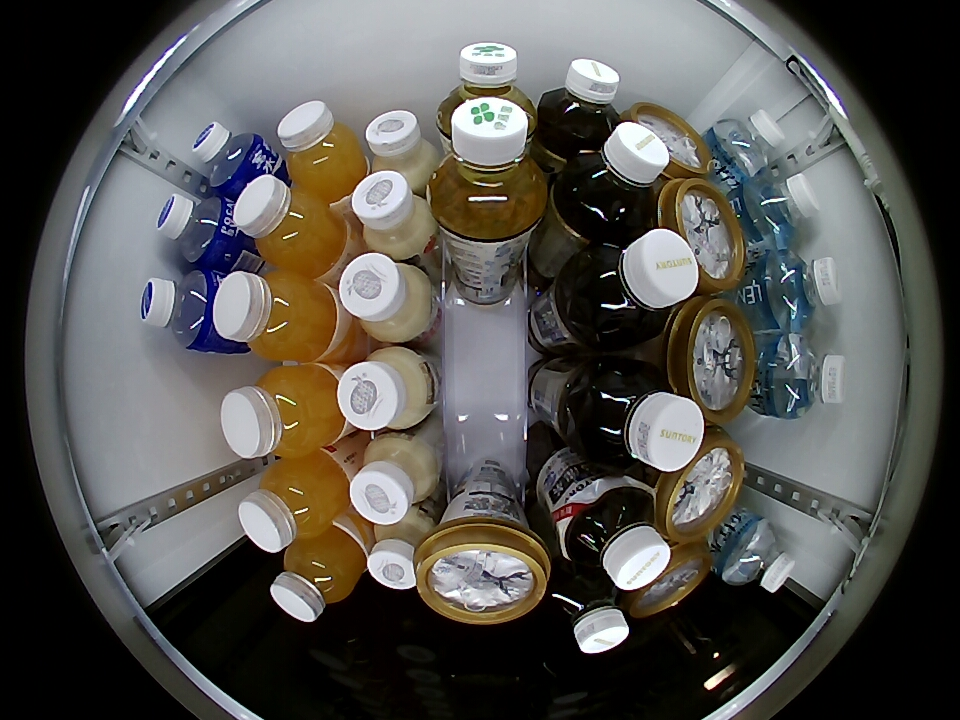baicha: (429, 99, 546, 241), (436, 42, 535, 135)
baokuangli: (140, 269, 222, 352), (156, 193, 236, 267), (192, 122, 271, 195)
lujiaoxiang: (415, 513, 551, 625), (664, 297, 758, 421), (658, 178, 749, 295), (653, 429, 746, 540), (625, 104, 709, 180), (627, 542, 712, 617)
qinningshui: (763, 334, 848, 419), (762, 251, 842, 330), (720, 517, 796, 593), (743, 173, 820, 246), (711, 109, 786, 178)
weic: (220, 364, 345, 458), (213, 270, 340, 362), (232, 175, 348, 275), (238, 452, 350, 553), (270, 526, 367, 622), (276, 101, 368, 200)
weiweidounai: (338, 252, 432, 343), (348, 434, 438, 526), (336, 346, 430, 432), (351, 170, 435, 258), (366, 509, 432, 592), (365, 109, 436, 186)
wulongcha: (573, 229, 698, 344), (581, 362, 702, 473), (557, 477, 669, 591), (560, 121, 670, 230), (547, 571, 630, 655), (540, 58, 621, 143)
